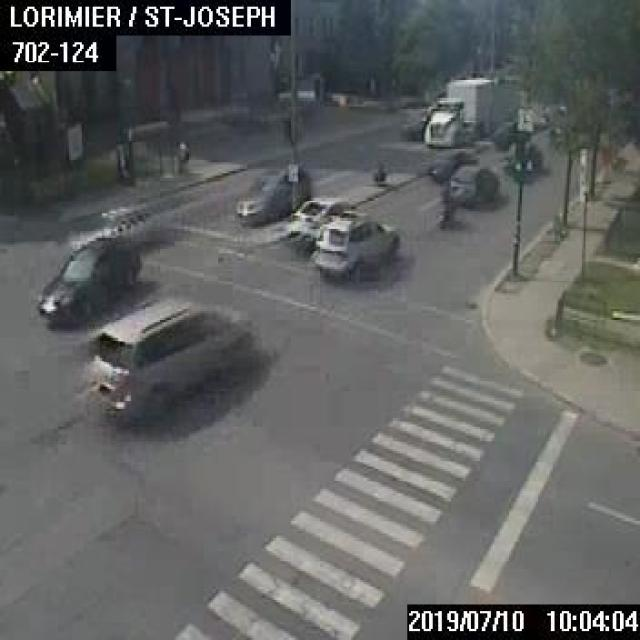pedestrian: (434, 175, 452, 229), (176, 138, 187, 176)
vehicle: (84, 296, 252, 422), (32, 236, 142, 324), (423, 75, 519, 146), (313, 217, 398, 281), (234, 166, 308, 222), (448, 163, 498, 207), (293, 196, 353, 227), (429, 148, 477, 182), (504, 145, 541, 179), (401, 118, 423, 140)
